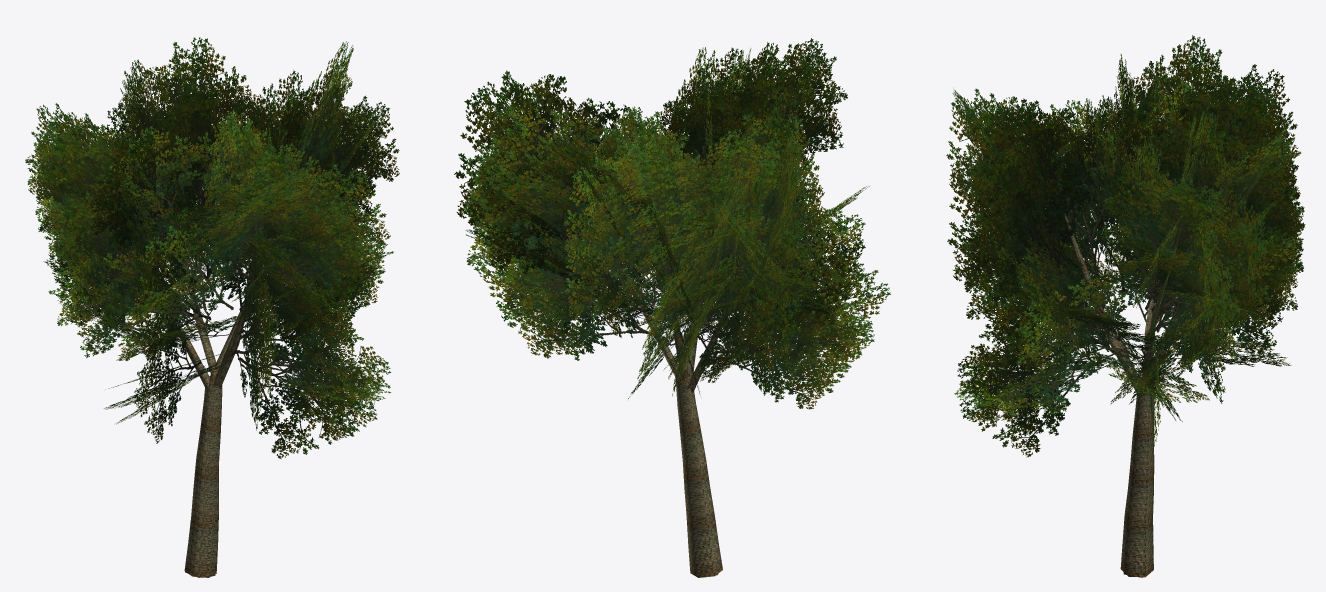
The model's file is far.glb.
3 renders of one model, left to right at view 1: azimuth 30°, elevation 25°; view 2: azimuth 150°, elevation 25°; view 3: azimuth 270°, elevation 25°, orthographic. The views are drawn at different scales.
Parts seen in each view (by area): view 1: lod1, lod2; view 2: lod1, lod2; view 3: lod1, lod2.
Part boxes in pixels (x1=…): lod1: x1=27, y1=37, x2=399, y2=577; lod2: x1=25, y1=41, x2=373, y2=577; lod1: x1=462, y1=38, x2=890, y2=577; lod2: x1=454, y1=42, x2=828, y2=575; lod1: x1=946, y1=44, x2=1304, y2=577; lod2: x1=947, y1=35, x2=1305, y2=577.
Size of the model in its own units: 15.28 by 20.77 by 14.09.
2 materials, 2 textured.
